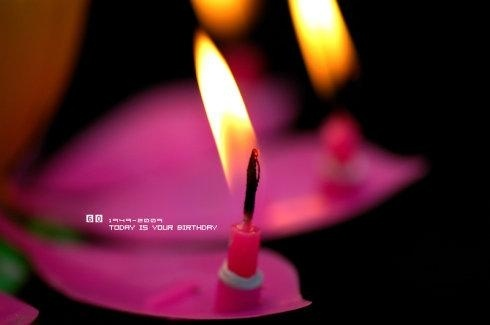fire: (193, 30, 259, 188), (287, 0, 358, 97), (191, 0, 257, 32)
